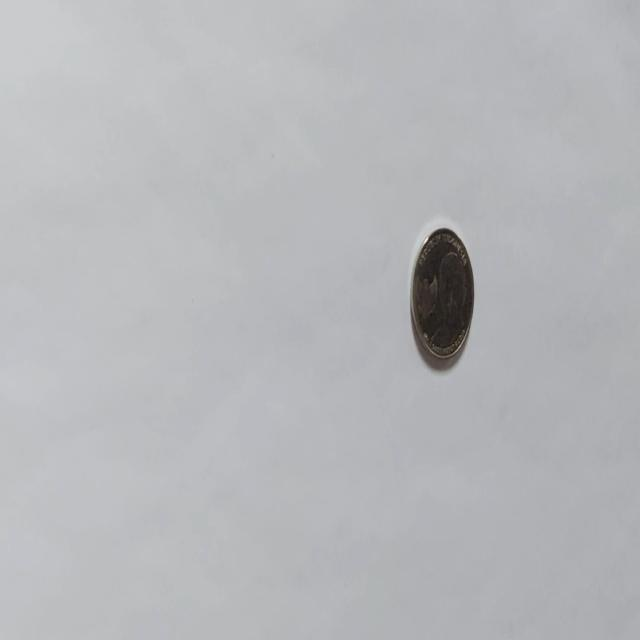seribu rupiah koin: (409, 224, 475, 364)
